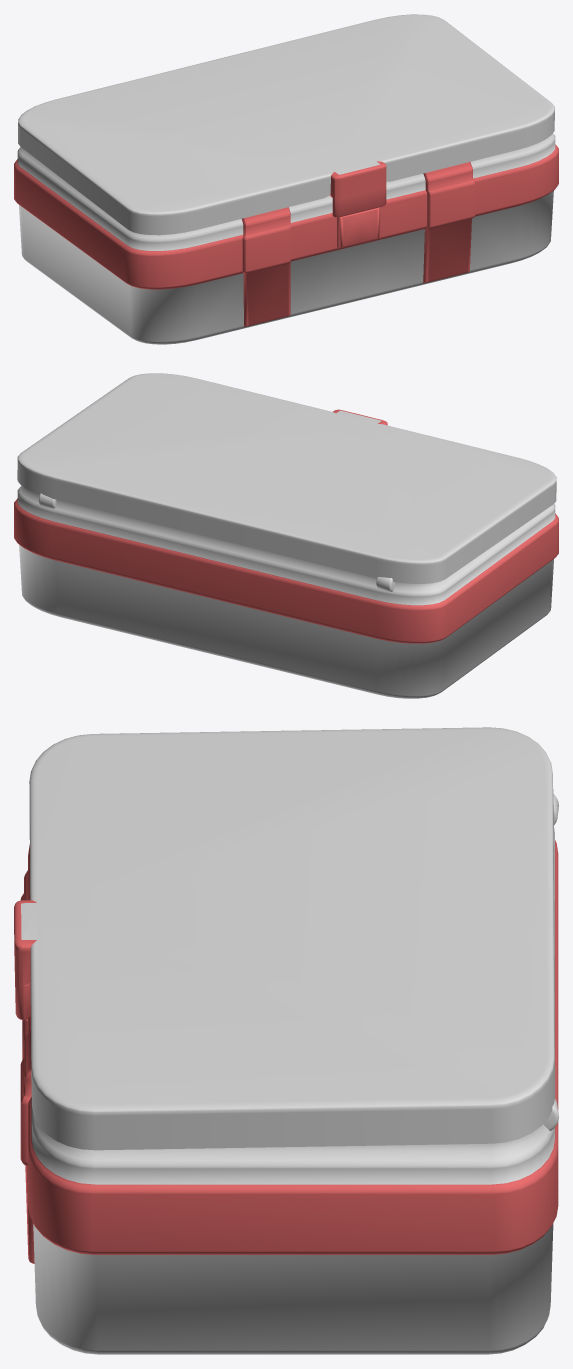
Rendered from ToolBox.fbx.
The picture shows the model from 3 angles, top to bottom: view 1: azimuth 30°, elevation 25°; view 2: azimuth 150°, elevation 25°; view 3: azimuth 270°, elevation 25°; orthographic projection. The views are drawn at different scales.
Visible parts, largest first — view 1: Cube.001, Cube.002; view 2: Cube.001, Cube.002, Cylinder.001; view 3: Cube.001, Cube.002.
Part boxes in pixels (x1,y1,x2,y2): Cube.001: (18,14,554,235); Cube.002: (14,133,558,344); Cube.001: (17,373,556,583); Cube.002: (14,485,558,698); Cylinder.001: (38,493,394,591); Cube.001: (14,727,555,1150); Cube.002: (20,826,558,1354).
Bounding box in the file's own units: 403 × 132 × 241.
